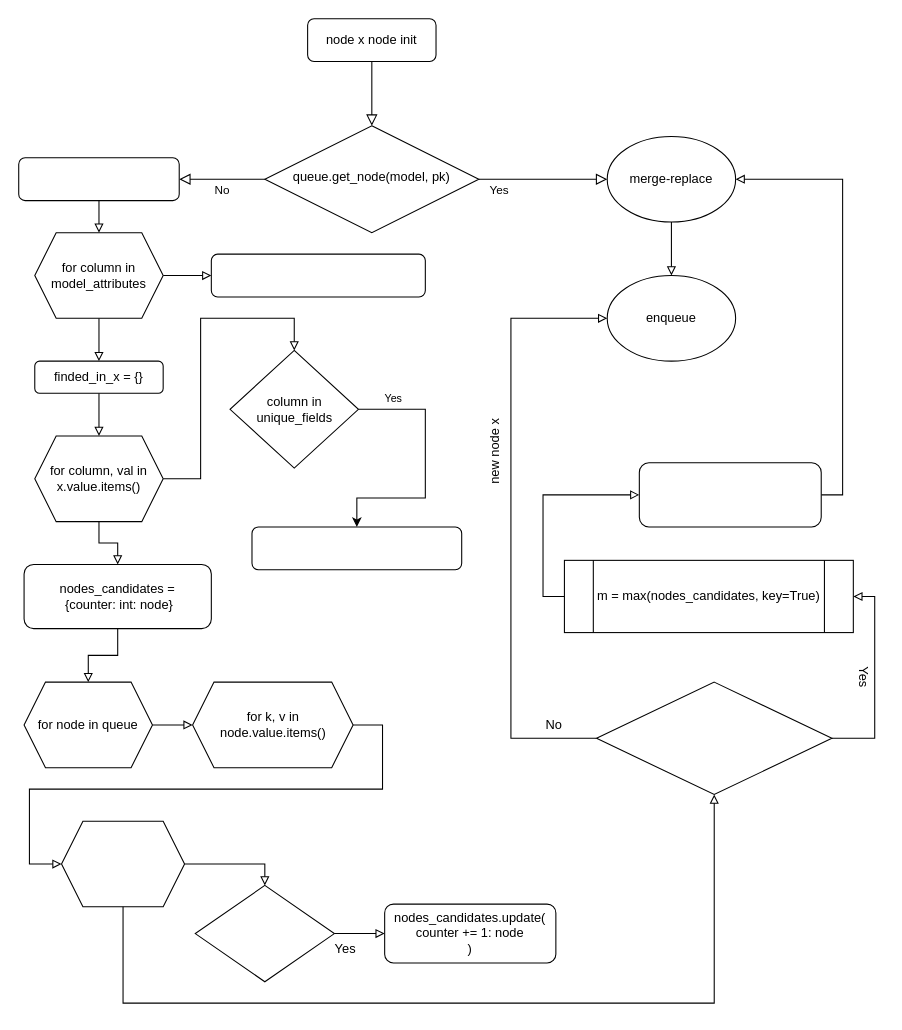
This 902x1030 diagram has some shape labels left out. The shapes that lost their labels are listed below. From the top down, each one's centre as x and y in pixels, then its label:
At point (98, 179): "unique_fields = []".
At point (317, 275): "unique_fields .append(column)".
At point (729, 494): "nodes_candidates[m]".
At point (356, 548): "finded_in_x.update({column: val})".
At point (713, 737): "len(nodes_candidates)".
At point (122, 863): "for key, val in finded_in_x.items()".
At point (264, 933): "k == key and v == val".
